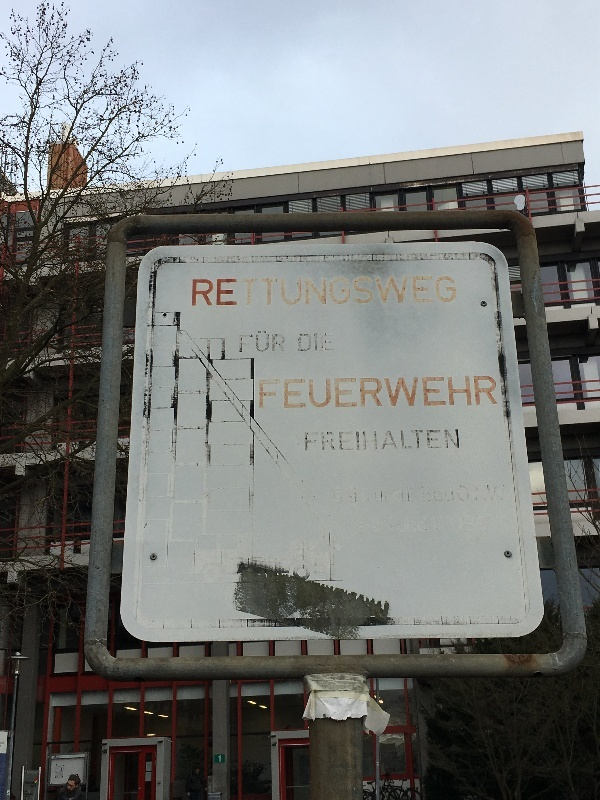text: (273, 375, 288, 409), (289, 375, 304, 409), (305, 375, 320, 409), (321, 375, 336, 409), (337, 375, 352, 409), (353, 375, 368, 409), (369, 375, 384, 409), (385, 375, 400, 409), (401, 375, 416, 409), (417, 375, 432, 409), (433, 375, 448, 409), (449, 375, 464, 409), (465, 375, 480, 409), (481, 375, 496, 409), (193, 276, 208, 307), (209, 276, 224, 307), (225, 276, 240, 307), (241, 276, 256, 307), (257, 276, 272, 307), (273, 276, 288, 307), (289, 276, 304, 307), (305, 276, 320, 307), (321, 276, 336, 307), (337, 276, 352, 307), (353, 276, 368, 307), (369, 276, 384, 307), (385, 276, 400, 307), (401, 276, 416, 307), (417, 276, 432, 307), (433, 276, 448, 307), (259, 375, 272, 409), (241, 330, 256, 354), (257, 330, 272, 354), (305, 429, 320, 452), (321, 429, 336, 452), (337, 429, 352, 452), (353, 429, 368, 452), (369, 429, 384, 452), (385, 429, 400, 452), (401, 429, 416, 452), (417, 429, 432, 452), (433, 429, 448, 452), (305, 332, 320, 353), (273, 330, 286, 354), (321, 332, 334, 353), (449, 429, 460, 452), (449, 276, 457, 307), (298, 332, 304, 353), (497, 375, 499, 409), (239, 330, 240, 354)
